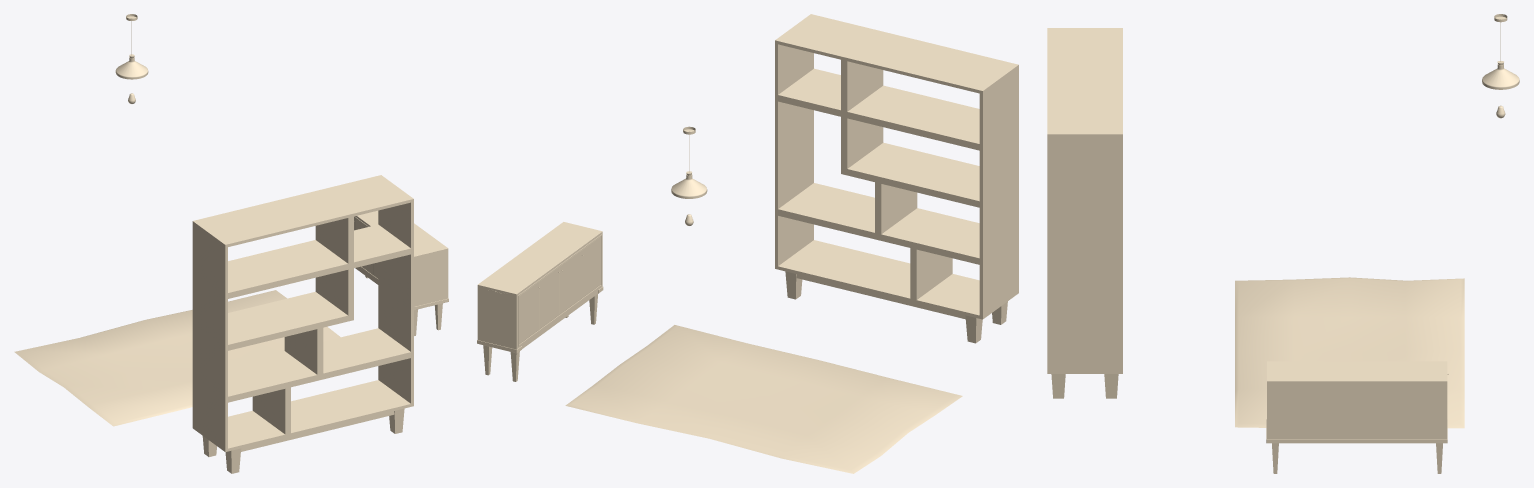
Rendered from Tapete-Comoda-Estante.fbx.
3 renders of one model, left to right at view 1: azimuth 30°, elevation 25°; view 2: azimuth 150°, elevation 25°; view 3: azimuth 270°, elevation 25°, orthographic. The views are drawn at different scales.
Parts seen in each view (by area): view 1: Estante, Tapete, Bancada, Iluminacao; view 2: Estante, Tapete, Bancada, Iluminacao; view 3: Estante, Tapete, Bancada, Iluminacao.
Boxes of the visible parts, <box> form: Estante: <box>192,175,413,473</box>; Tapete: <box>14,290,340,426</box>; Bancada: <box>354,210,448,335</box>; Iluminacao: <box>115,14,148,79</box>; Estante: <box>775,14,1018,343</box>; Tapete: <box>565,325,962,473</box>; Bancada: <box>477,222,603,381</box>; Iluminacao: <box>671,126,707,198</box>; Estante: <box>1047,28,1122,398</box>; Tapete: <box>1235,277,1464,428</box>; Bancada: <box>1266,361,1448,473</box>; Iluminacao: <box>1482,14,1519,89</box>.
Size of the model in its own units: 448 by 360 by 454.
